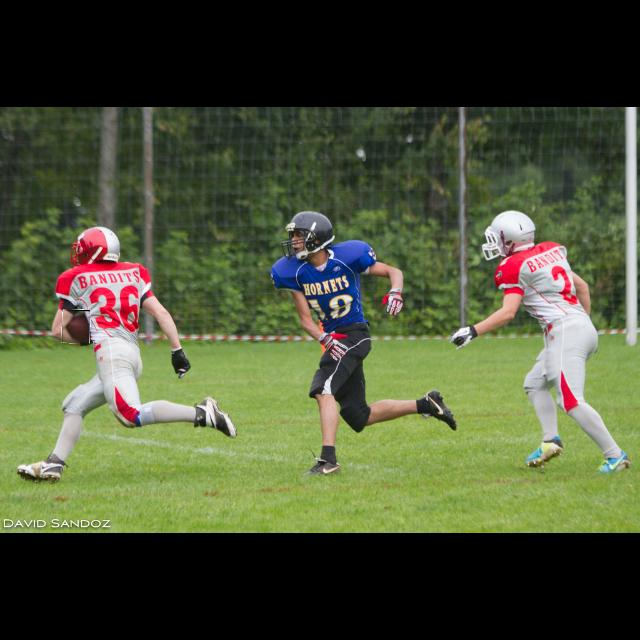Football: (62, 310, 90, 344)
